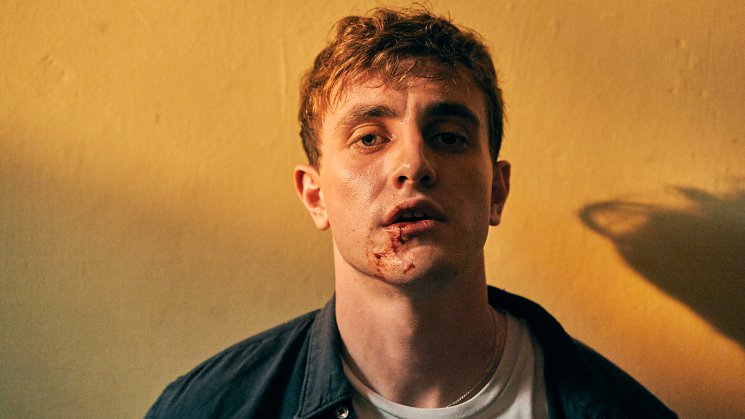NoMask: (333, 93, 481, 287)
